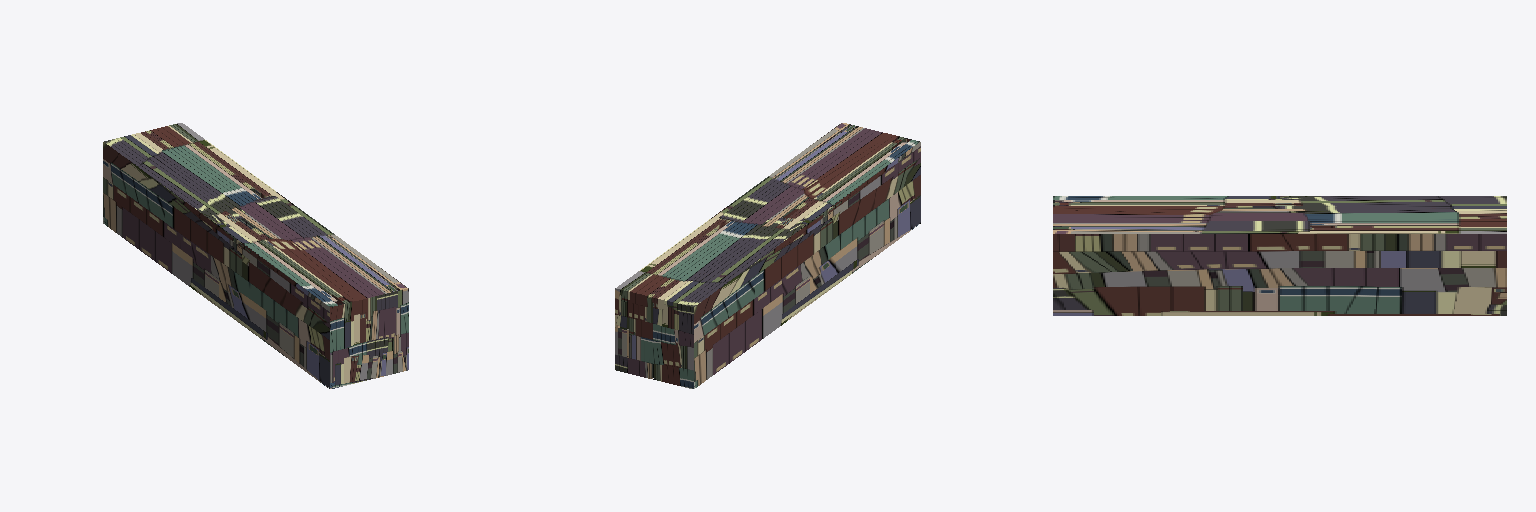
3 views of the same model, side by side, from view 1: azimuth 30°, elevation 25°; view 2: azimuth 150°, elevation 25°; view 3: azimuth 270°, elevation 25° (orthographic).
Visible parts, largest first — view 1: Cube; view 2: Cube; view 3: Cube.
Boxes of the visible parts, box(x1,y1,x2,y2) form: Cube: box(103, 123, 408, 388); Cube: box(615, 123, 920, 388); Cube: box(1053, 196, 1506, 315).
Bounding box in the file's own units: 400 × 400 × 2000.
Materials: 1 (1 with a texture image).